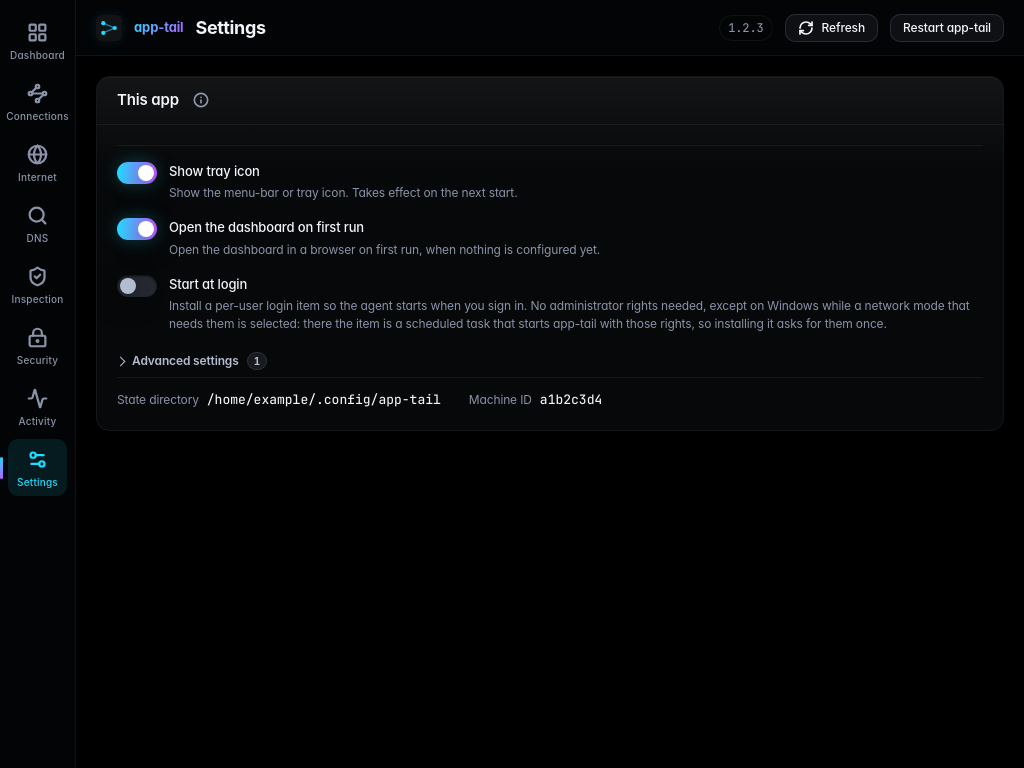
Test case: a setting that needs administrator rights › says app-tail is restarting when the save restarted it to be asked
Click the checkbox named "Show tray icon". click: {"x": 137, "y": 172}
box: [117, 162, 157, 184]
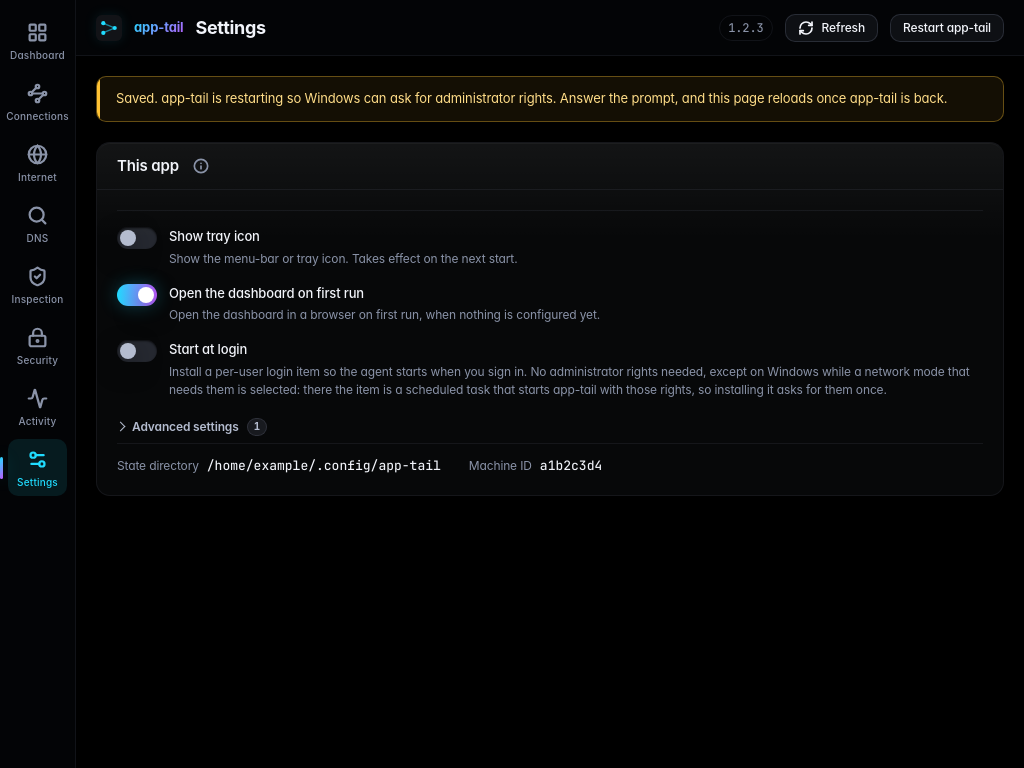
Now the text "restarting so Windows can ask for administrator rights" is shown, box [116, 90, 947, 106]
